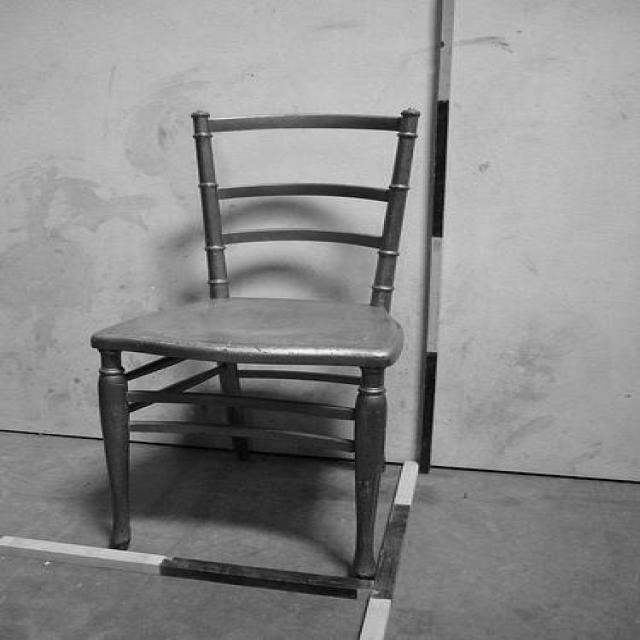chair: (90, 107, 425, 580)
